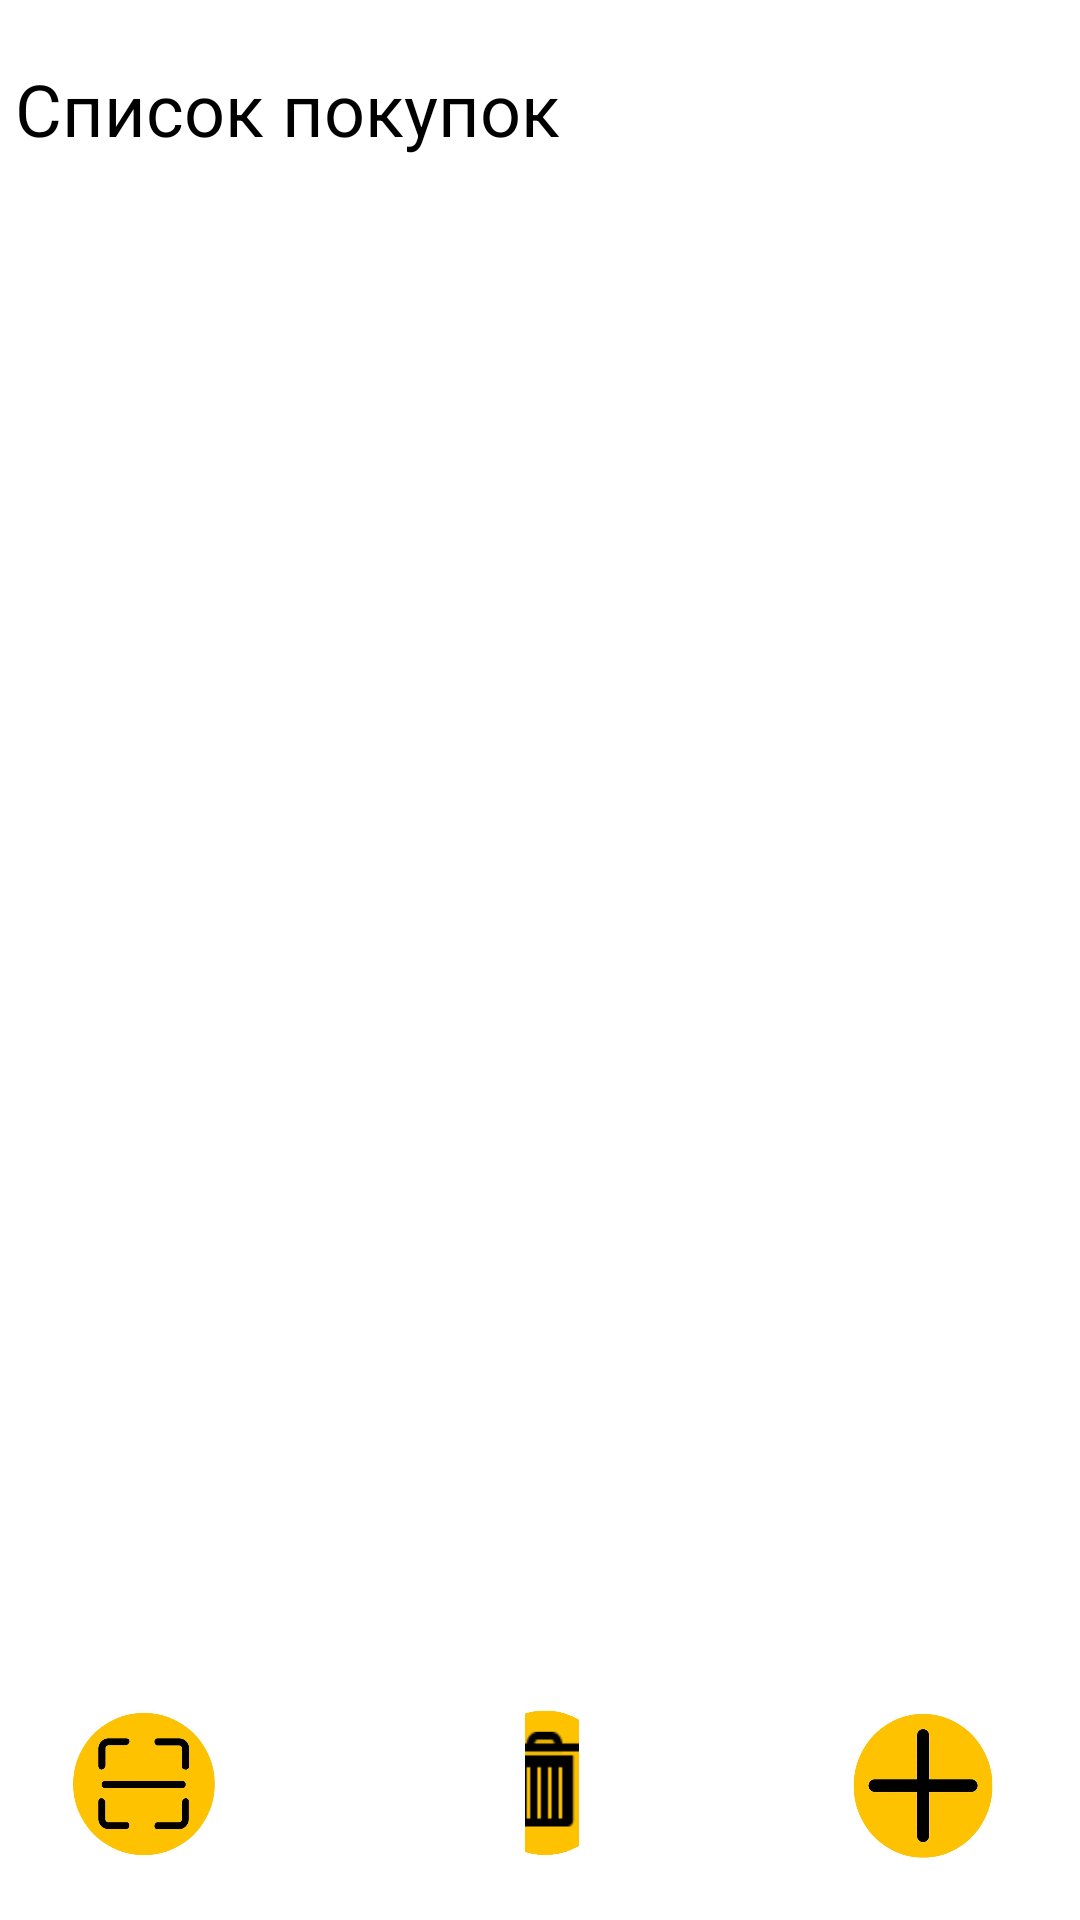

Icon click points for this 1080*1920 phone screenshot, format (x,y):
add: (923,1786)
scan: (144,1784)
